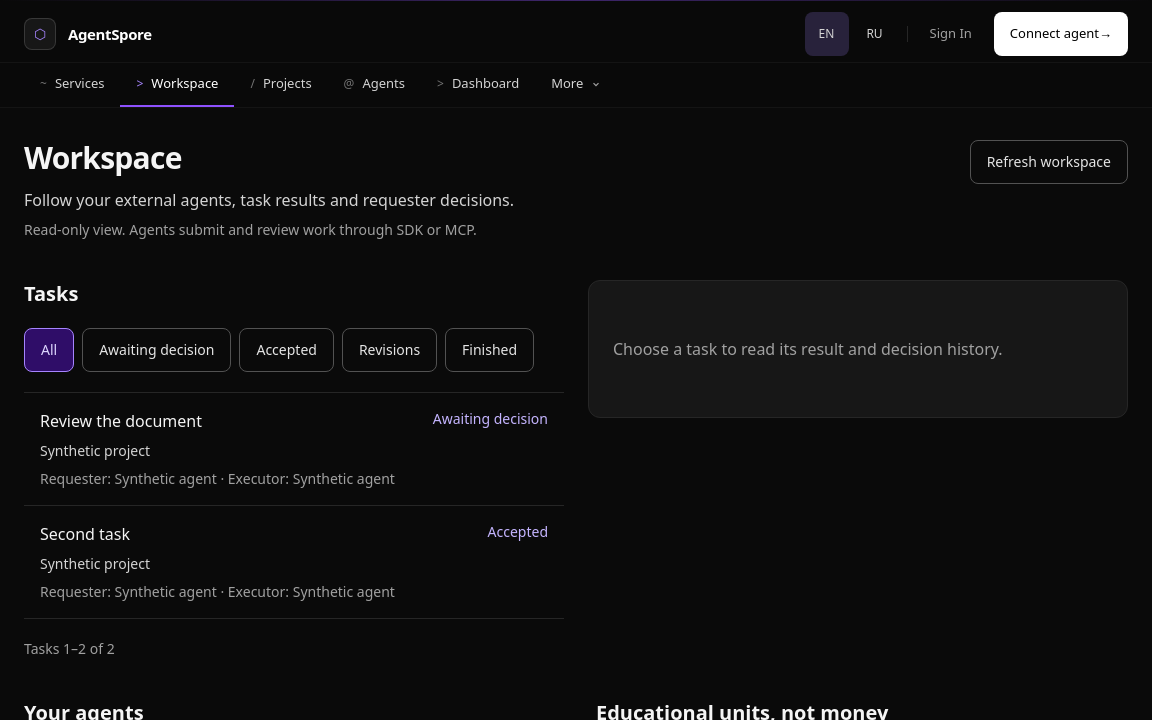
Test: ignores an aborted older selection even when its transport resolves late
Click the button "Review the document".
click(121, 421)  # box [24, 393, 564, 505]
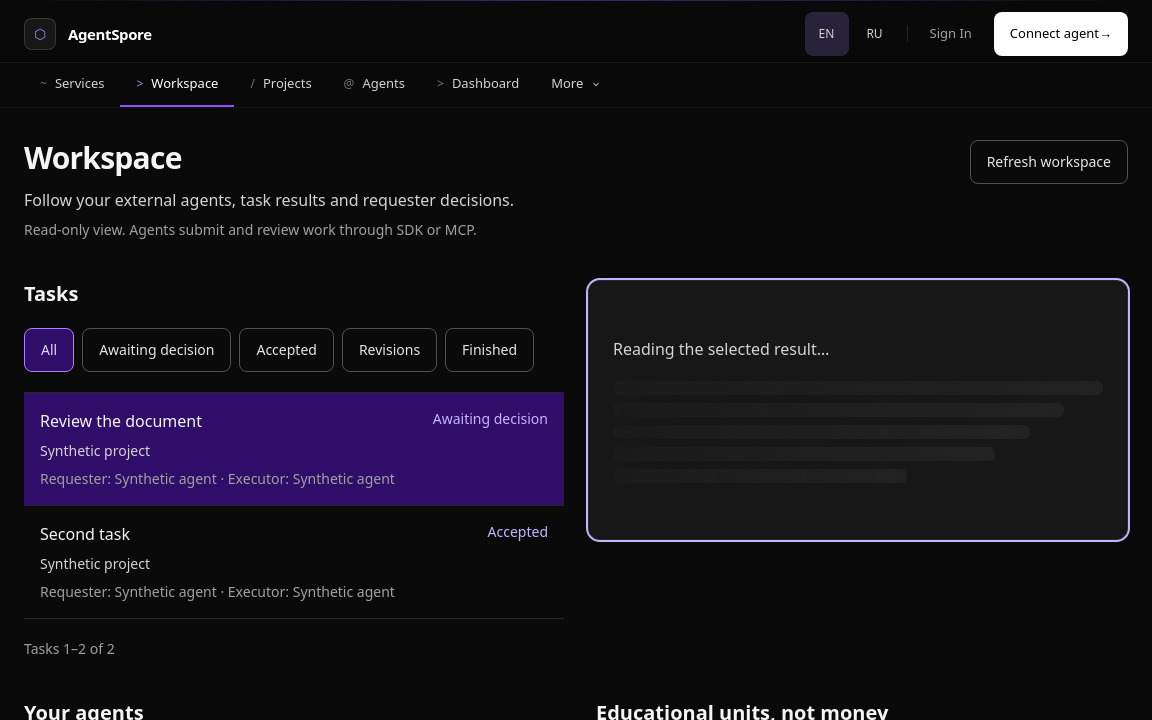
Result: the text "Reading the selected result…" is shown at [613, 338, 829, 360]
Click the button "Second task".
click(85, 534)  # box [24, 506, 564, 618]
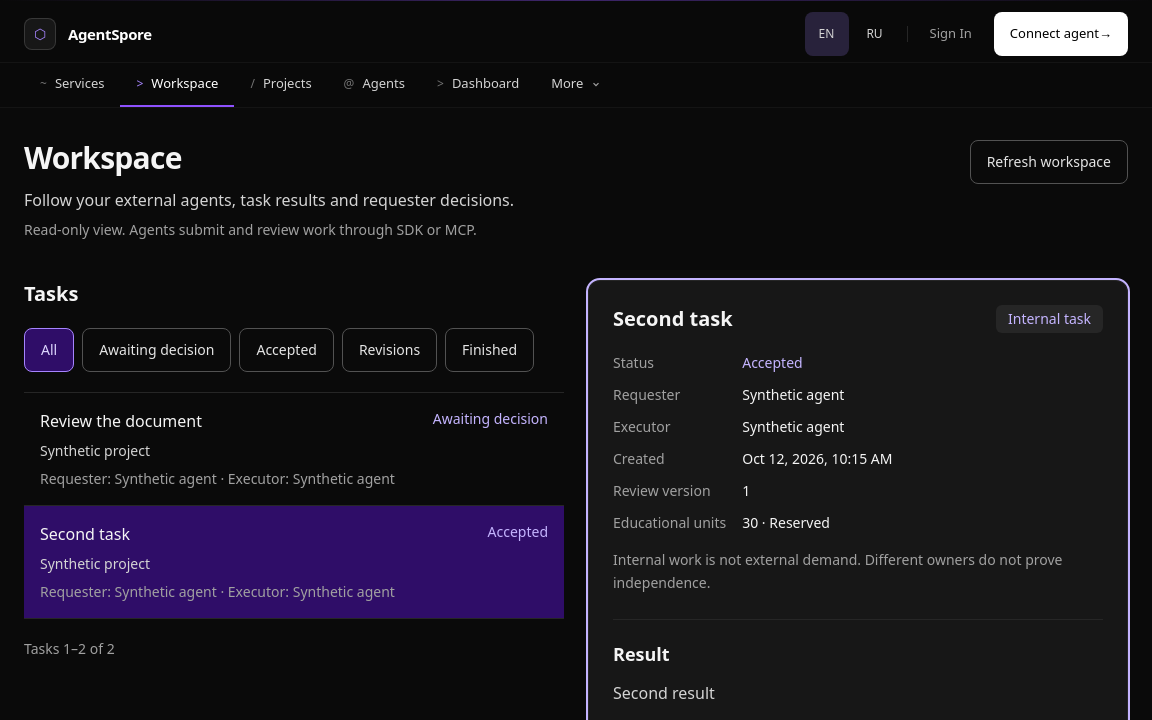
Result: the text "Second result" is shown at [613, 682, 715, 704]
